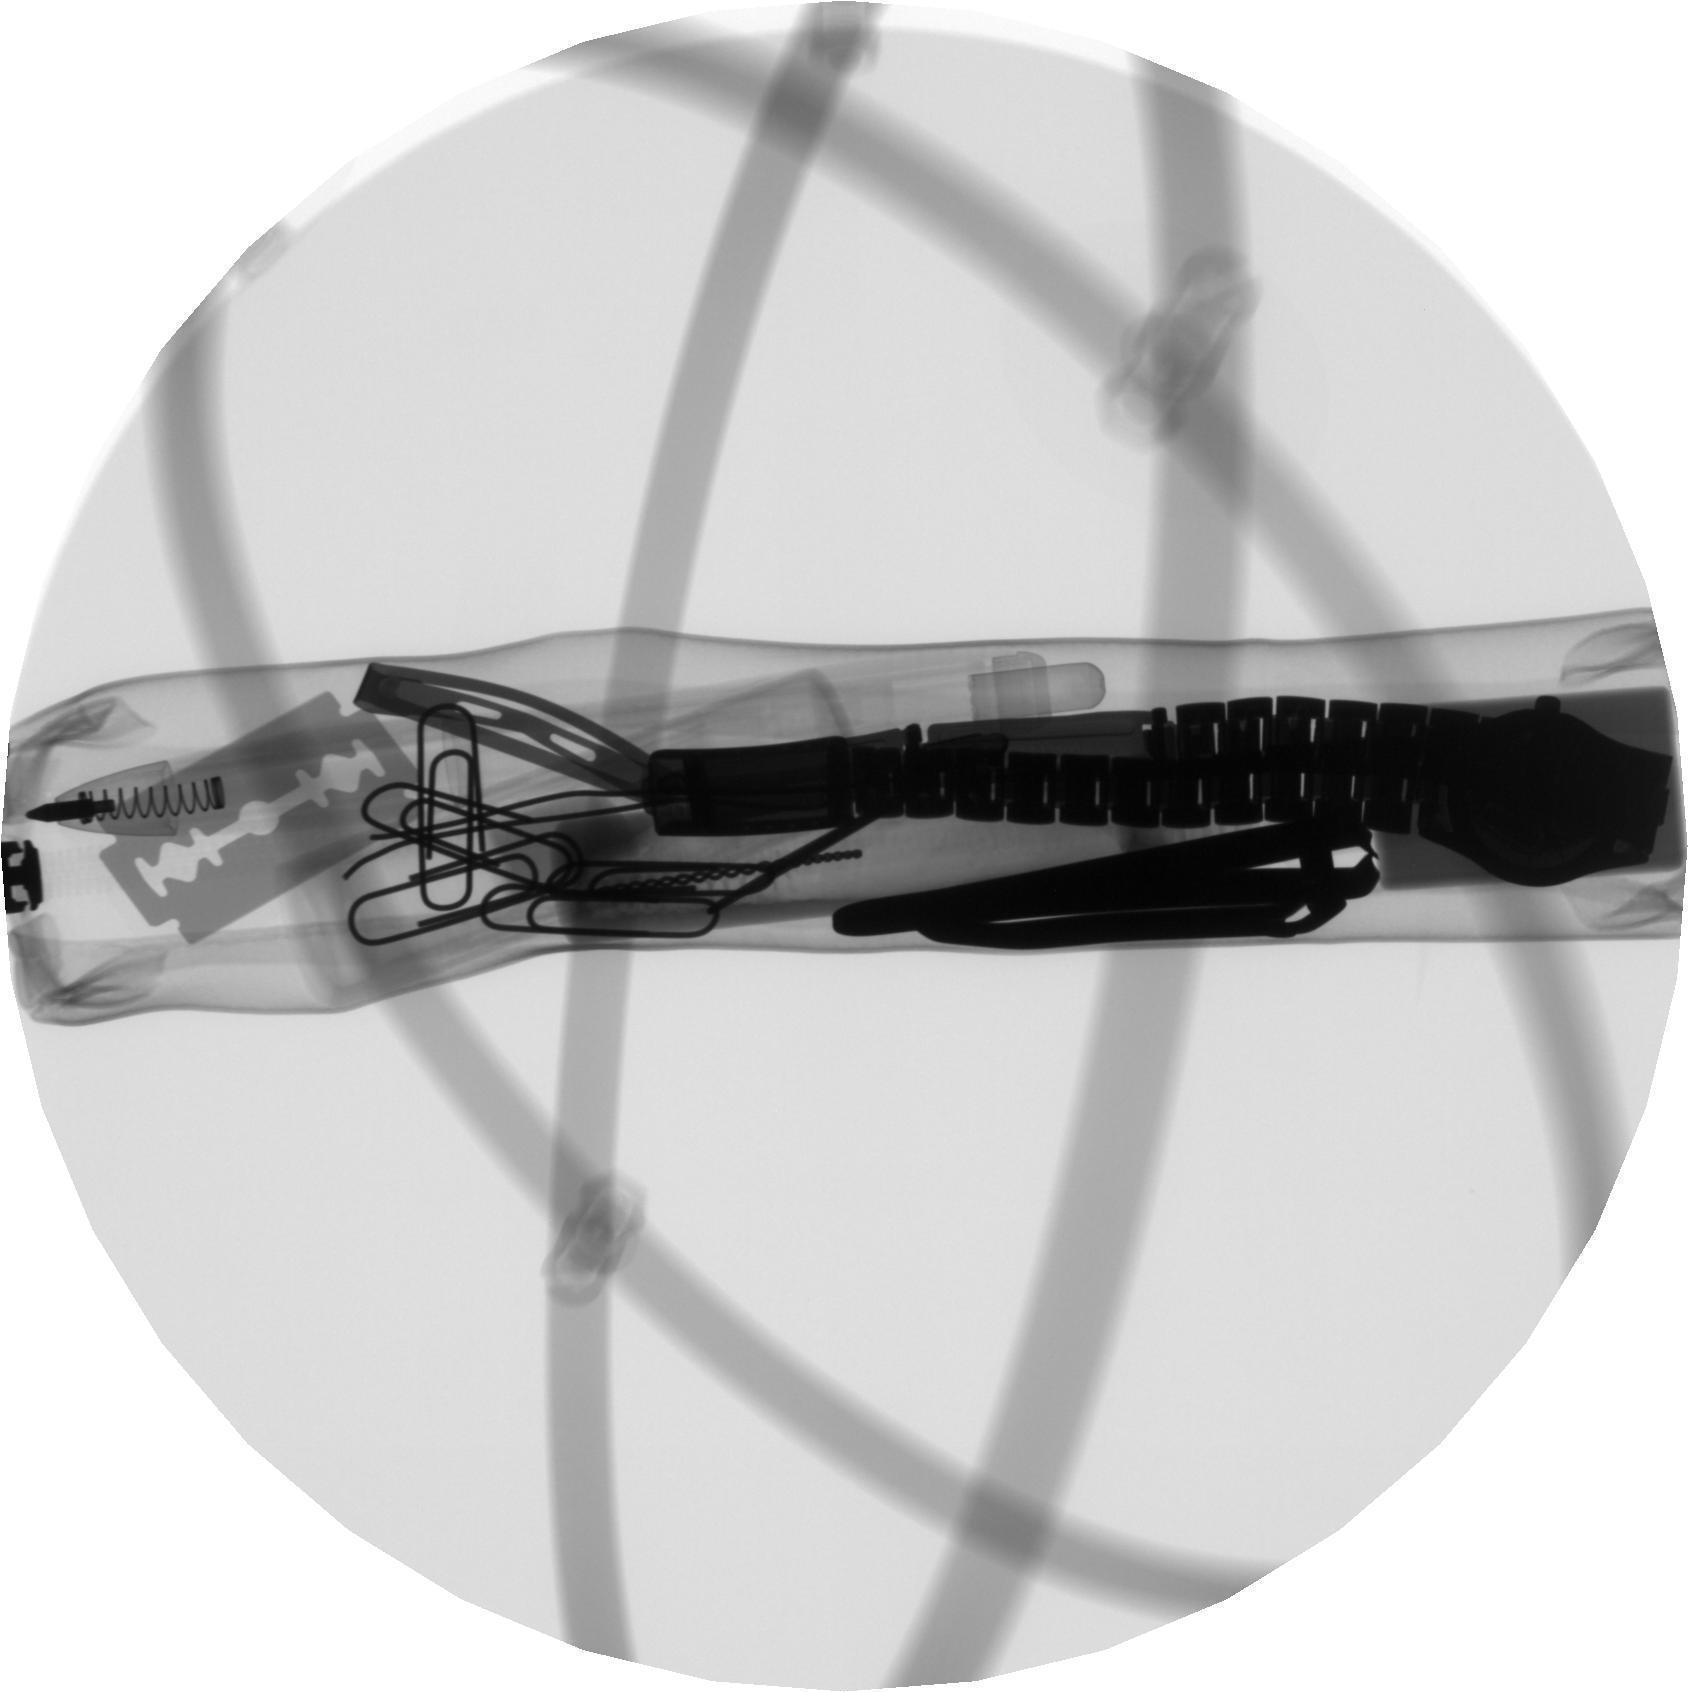RazorBlade: (76, 680, 456, 963)
